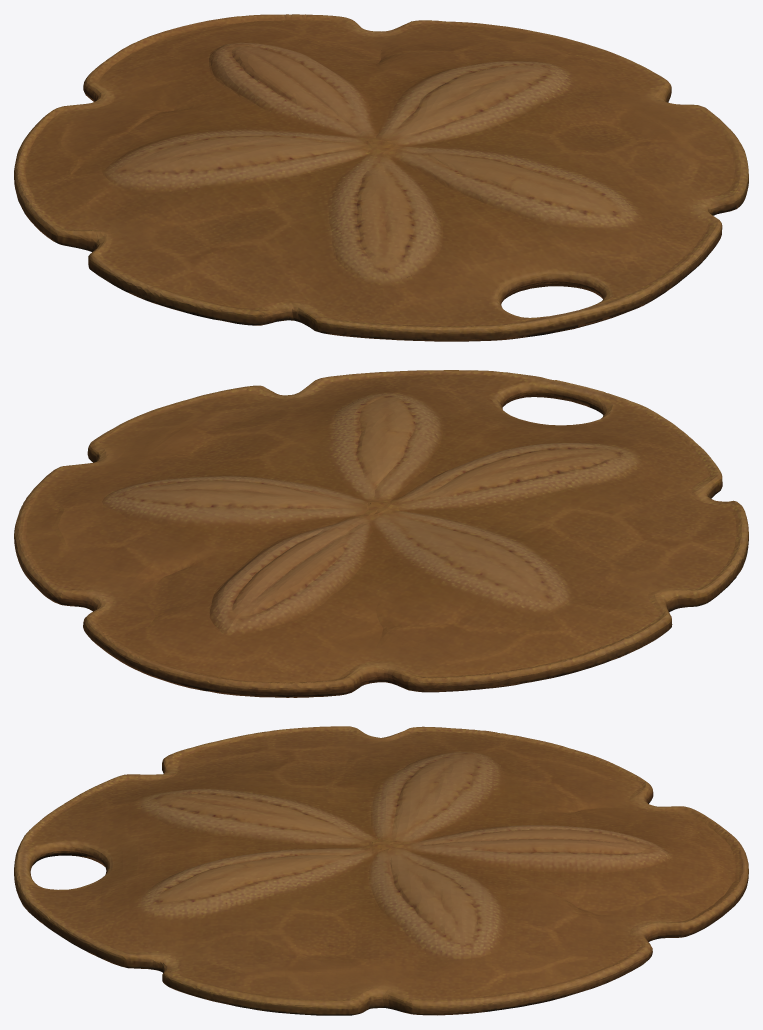
3 renders of one model, top to bottom at view 1: azimuth 30°, elevation 25°; view 2: azimuth 150°, elevation 25°; view 3: azimuth 270°, elevation 25°, orthographic. The views are drawn at different scales.
Visible parts, largest first — view 1: world; view 2: world; view 3: world.
Part boxes in pixels (left/top/right/bottom): world: left=14, top=14, right=748, bottom=341; world: left=14, top=370, right=748, bottom=697; world: left=14, top=726, right=748, bottom=1015.
Size of the model in its own units: 0.9016 by 0.0626 by 1.
Materials: 1 (1 with a texture image).
